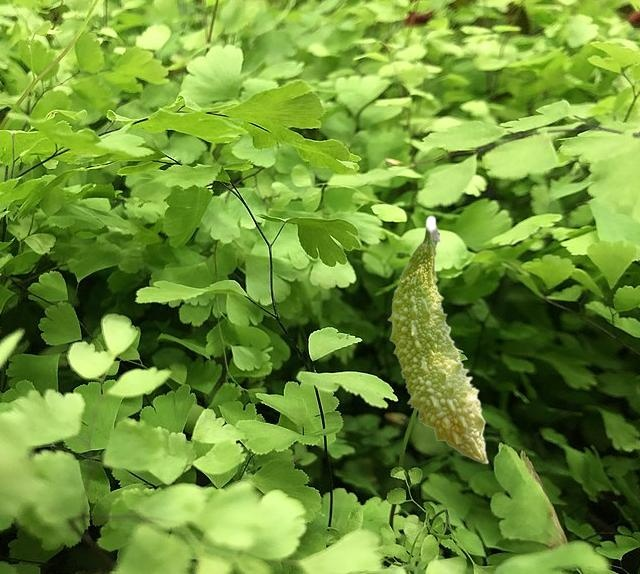ampalaya: (385, 213, 489, 464)
